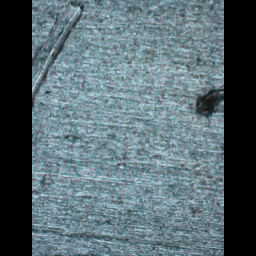d: (32, 1, 87, 114), (192, 85, 224, 122)
